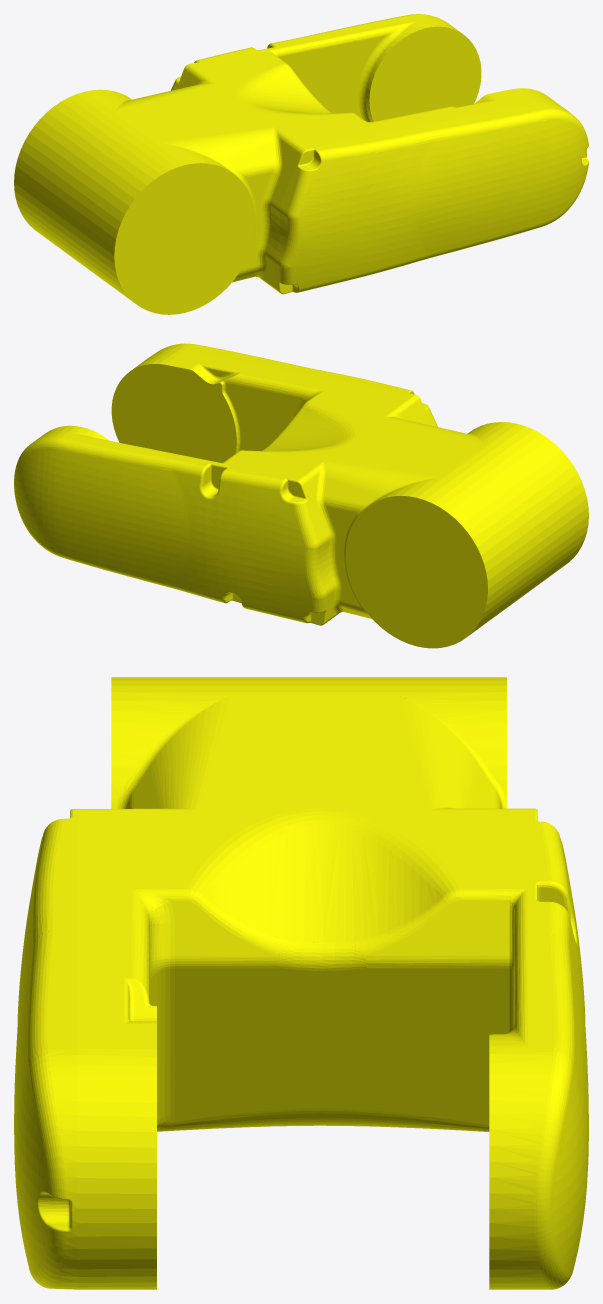
The picture shows the model from 3 angles, top to bottom: view 1: azimuth 30°, elevation 25°; view 2: azimuth 150°, elevation 25°; view 3: azimuth 270°, elevation 25°; orthographic projection. The views are drawn at different scales.
Parts seen in each view (by area): view 1: node; view 2: node; view 3: node.
Part boxes in pixels (box(x1,y1,x2,y2)): node: box(14, 14, 588, 314); node: box(14, 343, 588, 648); node: box(14, 677, 588, 1289).
Size of the model in its own units: 413 by 126 by 225.
